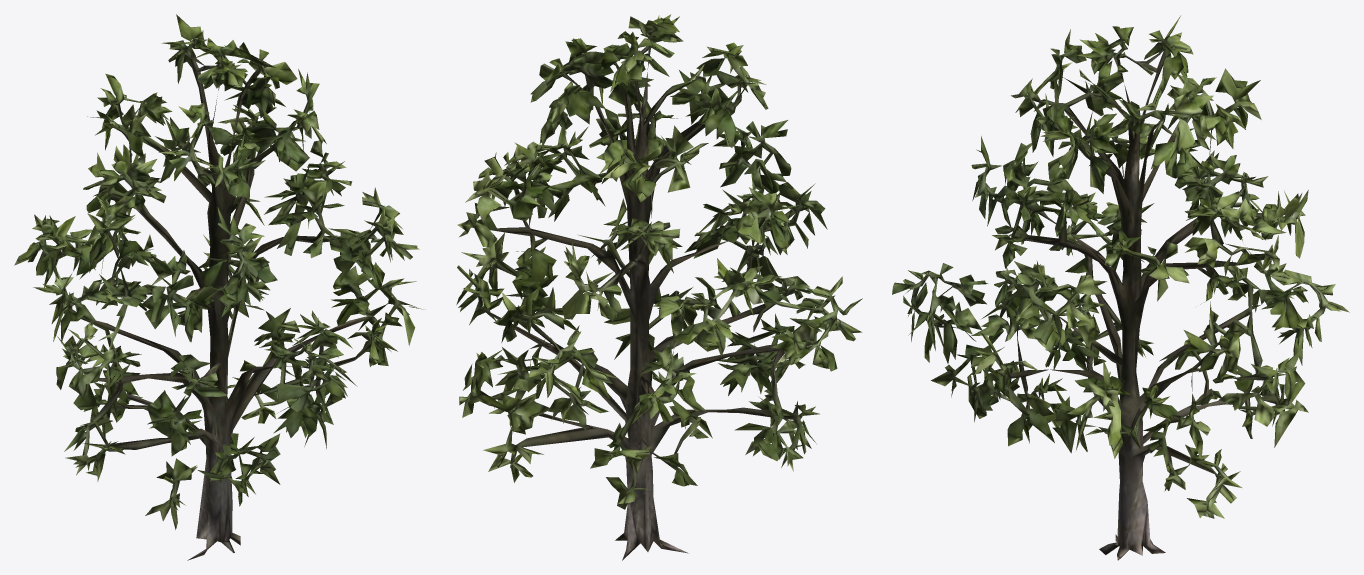
File: poplar.glb
The picture shows the model from 3 angles, left to right: view 1: azimuth 30°, elevation 25°; view 2: azimuth 150°, elevation 25°; view 3: azimuth 270°, elevation 25°; orthographic projection. The views are drawn at different scales.
Visible parts, largest first — view 1: tripo_node_d82a65ec-2df2-4dec-bcbc-66f974eefc0e; view 2: tripo_node_d82a65ec-2df2-4dec-bcbc-66f974eefc0e; view 3: tripo_node_d82a65ec-2df2-4dec-bcbc-66f974eefc0e.
Boxes of the visible parts, left/top/right/bottom form: tripo_node_d82a65ec-2df2-4dec-bcbc-66f974eefc0e: left=14, top=14, right=425, bottom=560; tripo_node_d82a65ec-2df2-4dec-bcbc-66f974eefc0e: left=456, top=14, right=862, bottom=560; tripo_node_d82a65ec-2df2-4dec-bcbc-66f974eefc0e: left=892, top=15, right=1349, bottom=560.
Bounding box in the file's own units: 0.7357 × 0.9977 × 0.7796.
Materials: 1 (1 with a texture image).
